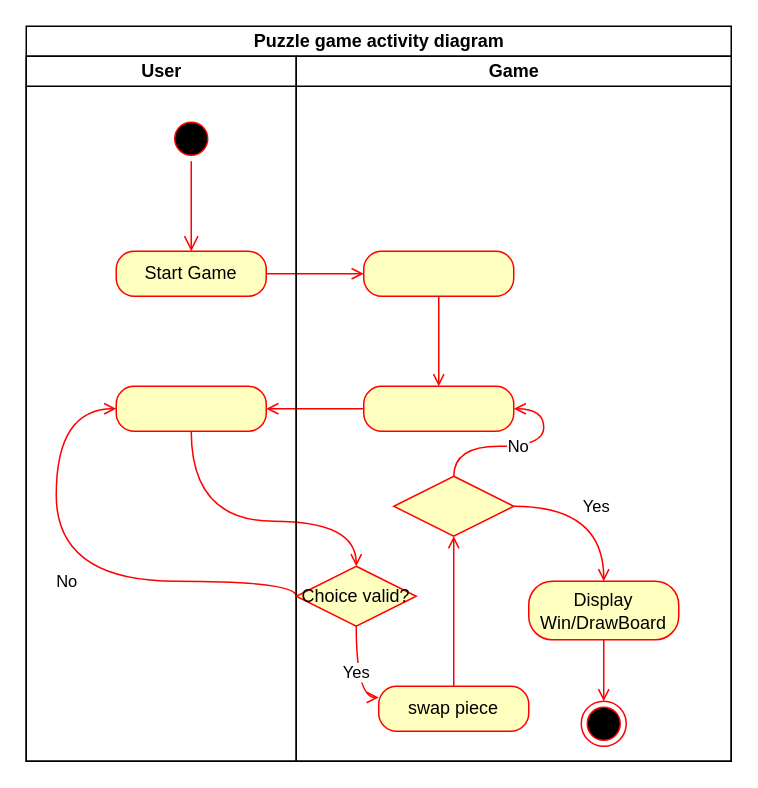
The diagram is 758 pixels wide and 788 high, and some of its shapes have lost their labels. The centre of each missing label's shape, as x and y in pixels:
"Display board" goes at point 438,408.
"Randomize board" goes at point 438,273.
"select number" goes at point 190,408.
"winner?" goes at point 453,505.
